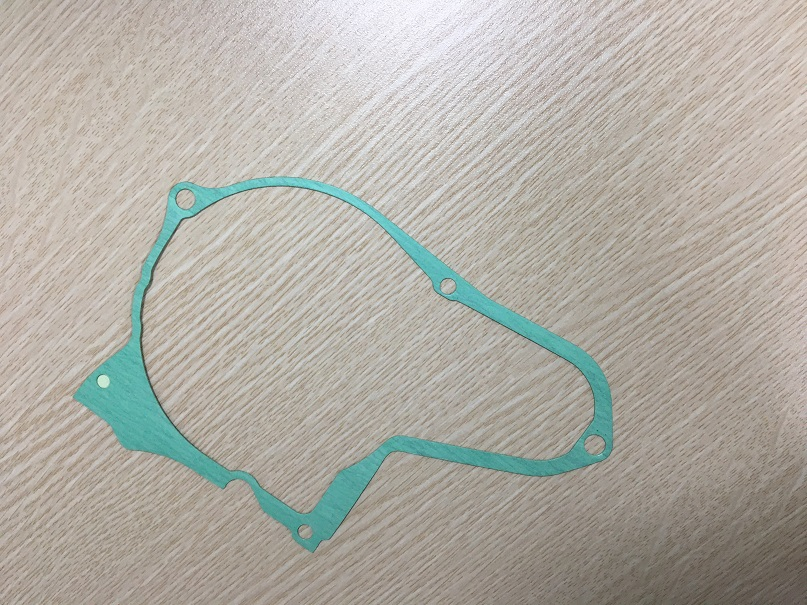type1: (58, 169, 620, 561)
